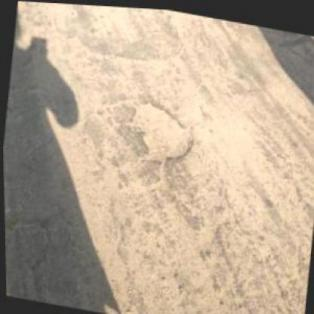Hueco: (122, 94, 200, 169)
